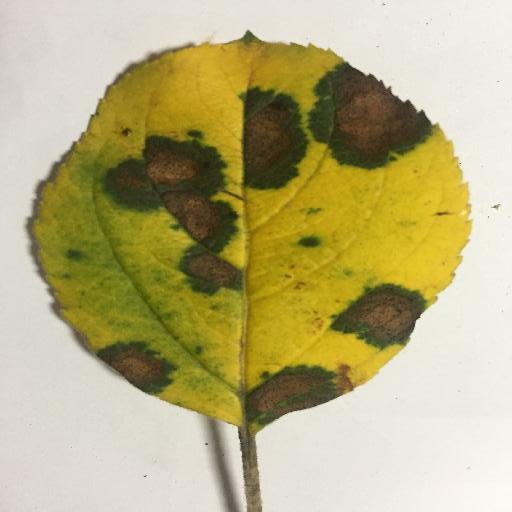Brown_Spot: (300, 57, 427, 166), (112, 141, 241, 239), (334, 278, 425, 347), (243, 92, 306, 190), (245, 363, 334, 418), (99, 340, 173, 387), (184, 251, 242, 287)
